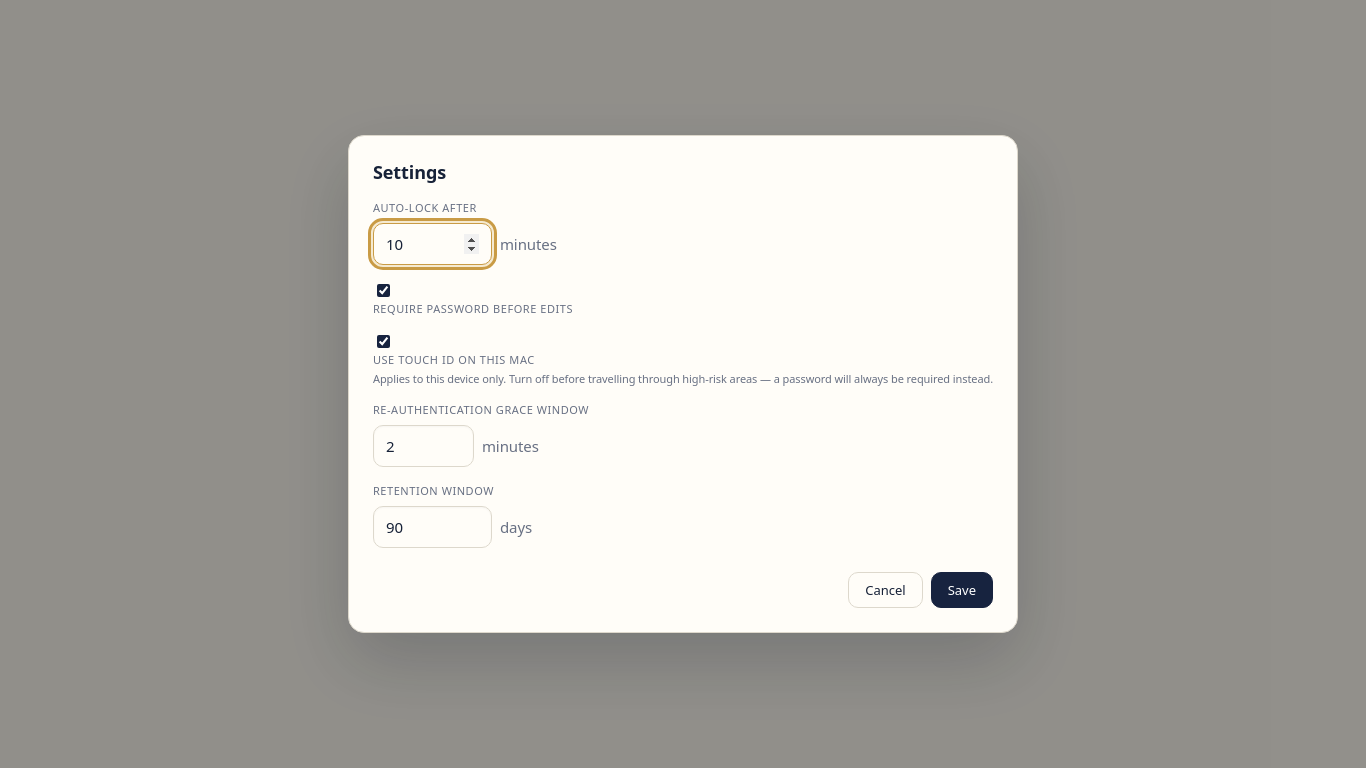
Test: SettingsDialog.svelte — Touch ID (biometric) toggle (#277) › writePresencePref rejecting after a successful setSettings surfaces the error and keeps the dialog open without rolling back the vault settings
What coordinates should you click on to do the following:
click the checkbox labelled "Use Touch ID on this Mac"
I would click on:
 (383, 342)
Its box is x1=377 y1=335 x2=390 y2=348.
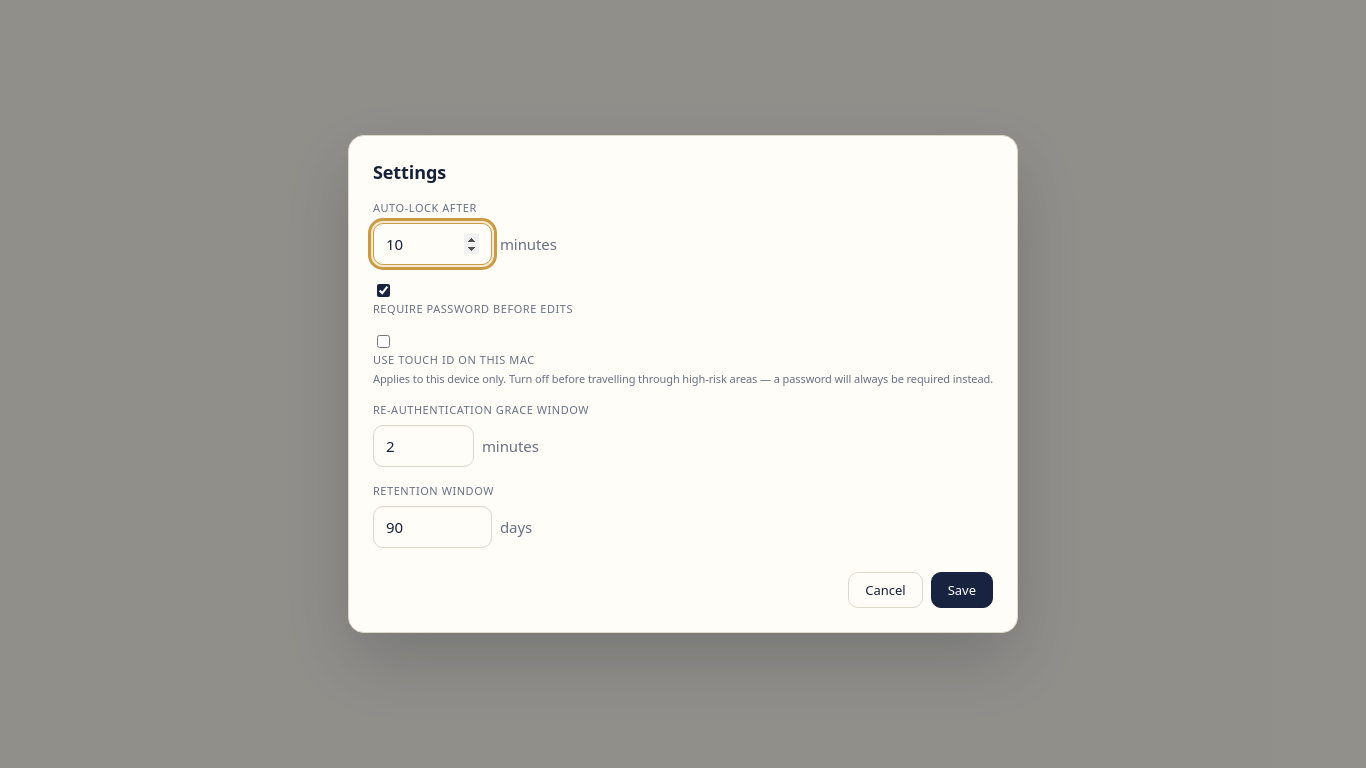
What coordinates should you click on to do the following:
click the button "Save"
I would click on:
 (962, 590)
Its box is x1=931 y1=572 x2=993 y2=608.
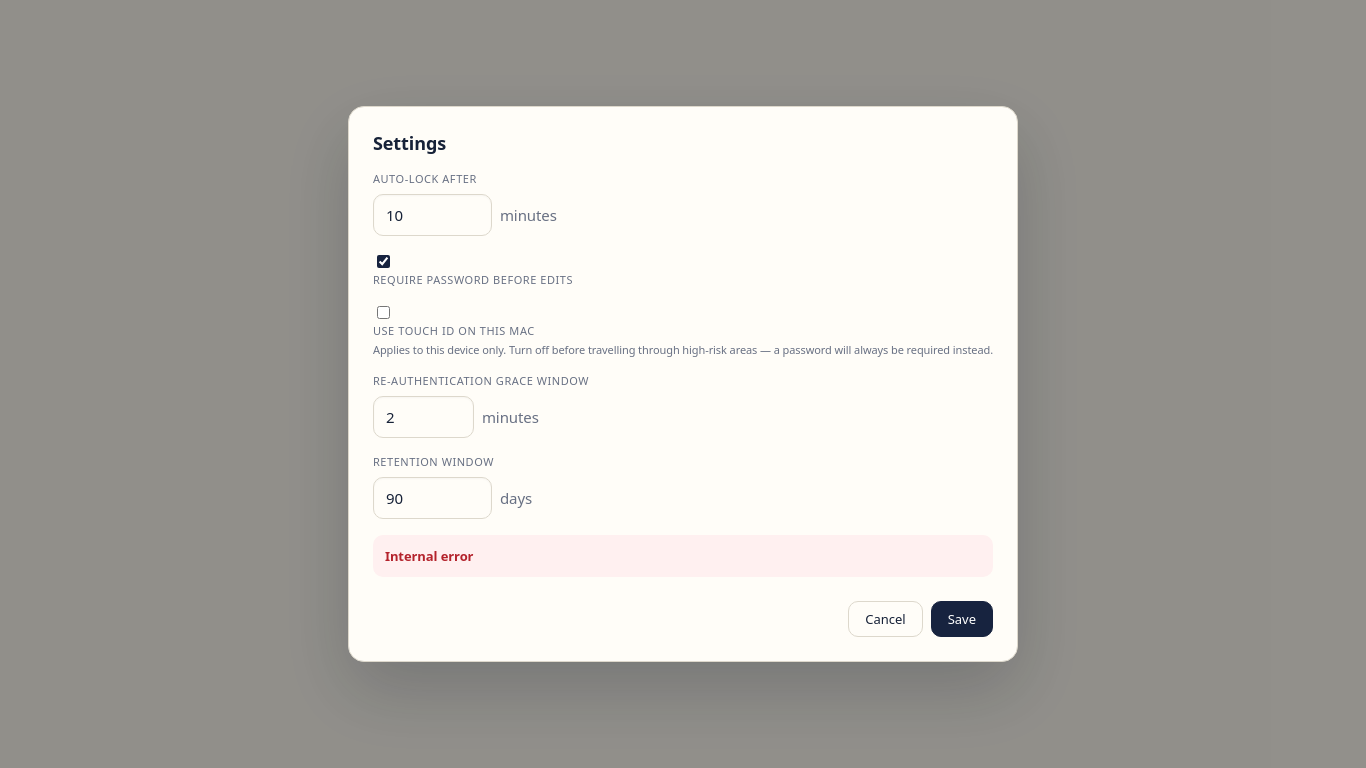
Result: the text "Internal error" is shown at x1=385 y1=547 x2=473 y2=565
